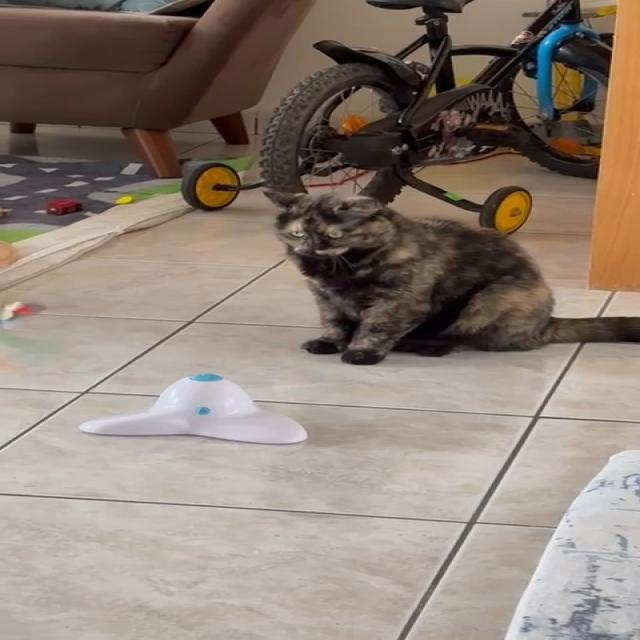authorized: (261, 188, 639, 365)
